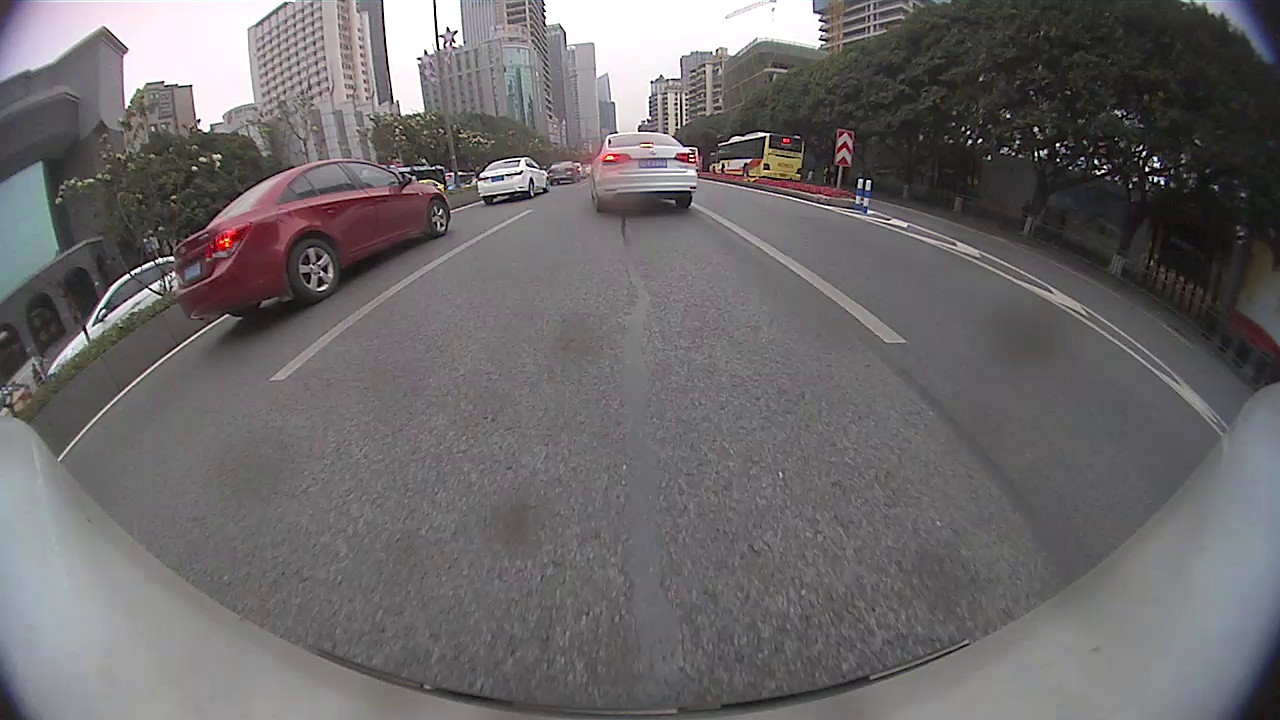bus: (709, 131, 807, 184)
car: (172, 157, 454, 322), (48, 255, 179, 377), (591, 129, 699, 213), (476, 155, 547, 203), (546, 157, 579, 187)
front: (429, 200, 449, 238)
rear: (288, 241, 341, 301), (528, 177, 537, 200)
